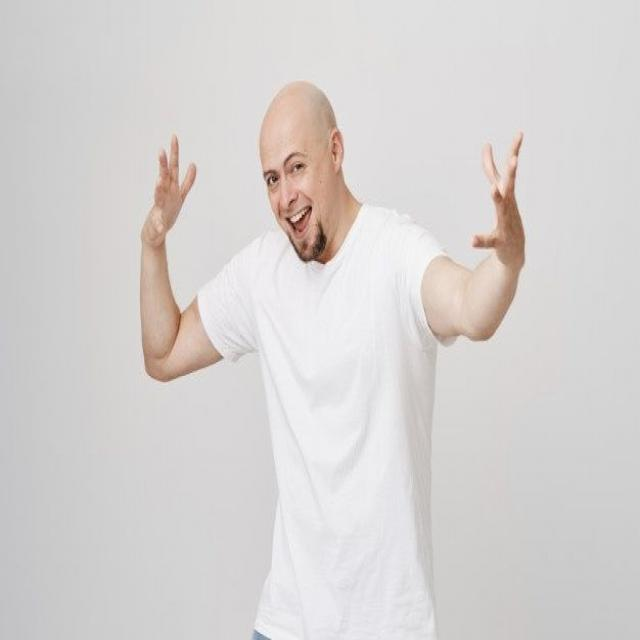bald: (255, 77, 343, 162)
